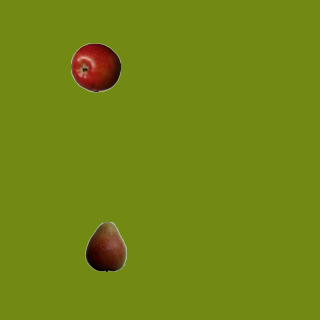Apple Braeburn: (70, 42, 120, 92)
Pear Forelle: (80, 221, 130, 271)
